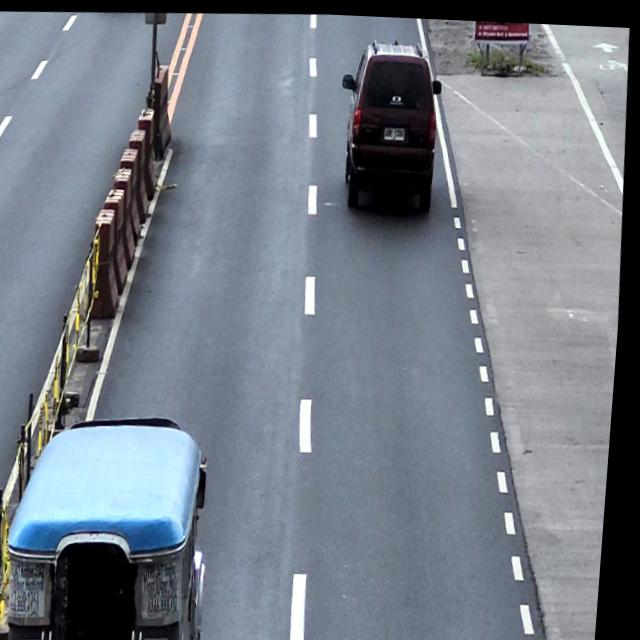Car: (335, 31, 450, 212)
Jeep: (5, 409, 226, 640)
License-Plate: (385, 122, 407, 137)
